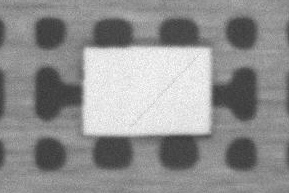DIE_CRACK: (196, 36, 289, 84)
